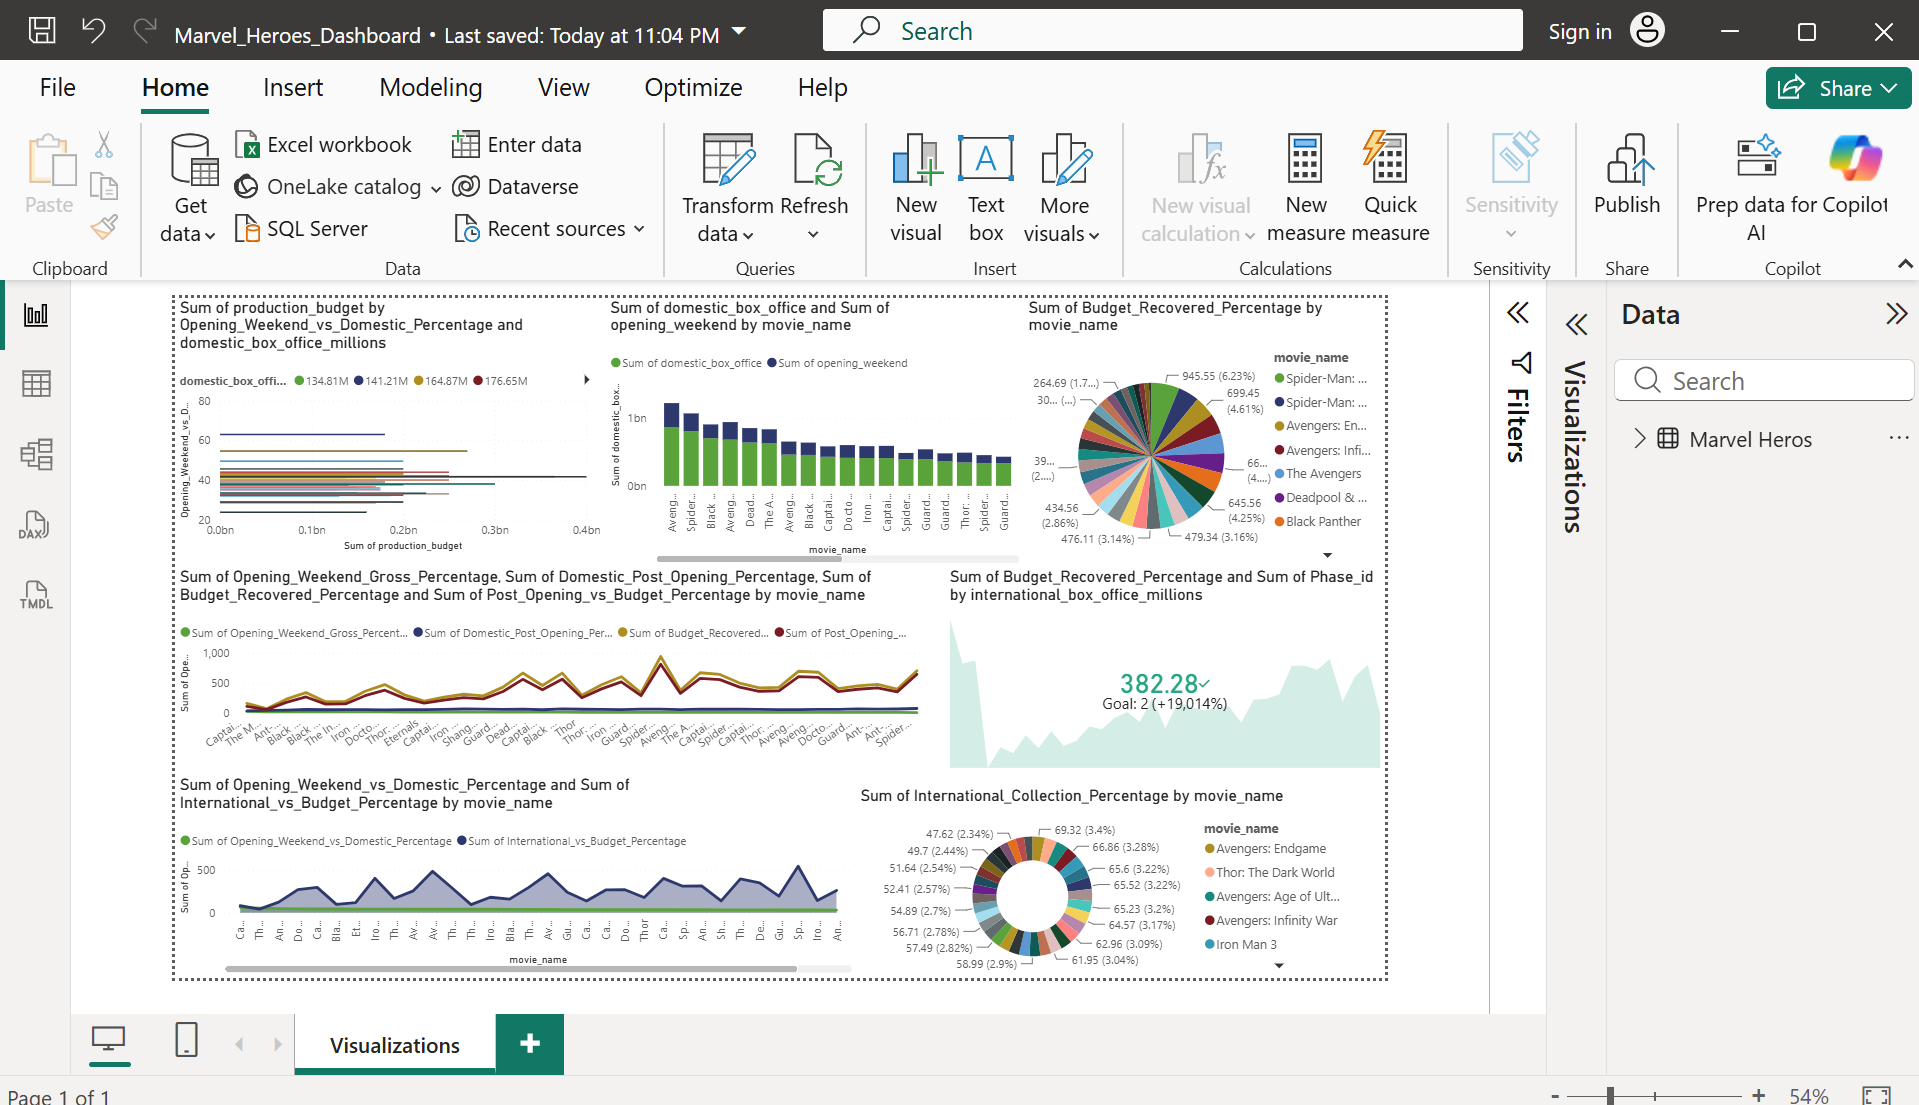

The page's visual inventory and layout, read from the dashboard file:
{"tool":"powerbi","page":{"name":"Visualizations","canvas":[1280,720],"ordinal":0},"visuals":[{"type":"barChart","fields":{"Category":["Marvel Heros.Opening_Weekend_vs_Domestic_Percentage"],"Y":["Sum(Marvel Heros.production_budget)"],"Series":["Marvel Heros.domestic_box_office_millions"]},"box":[0,0,455.2,273.1],"z":0},{"type":"columnChart","fields":{"Y":["Sum(Marvel Heros.domestic_box_office)","Sum(Marvel Heros.opening_weekend)"],"Category":["Marvel Heros.movie_name"]},"box":[455.2,0,442.9,285.4],"z":1000},{"type":"lineChart","fields":{"Y":["Sum(Marvel Heros.Opening_Weekend_Gross_Percentage)","Sum(Marvel Heros.Domestic_Post_Opening_Percentage)","Sum(Marvel Heros.Budget_Recovered_Percentage)","Sum(Marvel Heros.Post_Opening_vs_Budget_Percentage)"],"Category":["Marvel Heros.movie_name"]},"box":[0,285.4,798.3,203.1],"z":2000},{"type":"areaChart","fields":{"Category":["Marvel Heros.movie_name"],"Y":["Sum(Marvel Heros.Opening_Weekend_vs_Domestic_Percentage)","Sum(Marvel Heros.International_vs_Budget_Percentage)"]},"box":[0,505.9,721.3,213.6],"z":3000},{"type":"pieChart","fields":{"Y":["Sum(Marvel Heros.Budget_Recovered_Percentage)"],"Category":["Marvel Heros.movie_name"]},"box":[898.1,0,381.6,285.4],"z":3001},{"type":"donutChart","fields":{"Y":["Sum(Marvel Heros.International_Collection_Percentage)"],"Category":["Marvel Heros.movie_name"]},"box":[721.3,516.4,530.4,203.1],"z":3002},{"type":"kpi","fields":{"Indicator":["Sum(Marvel Heros.Budget_Recovered_Percentage)"],"Goal":["Sum(Marvel Heros.Phase_id)"],"TrendLine":["Marvel Heros.international_box_office_millions"]},"box":[814,285.4,465.7,217.1],"z":3003}]}

Visuals, with their boxes on the page's 1280x720 design canvas (x1, y1, x2, y2). These are canvas units, not pixel positions in the 1919x1105 screenshot, which may show the page scaled, cropped or inside an application window:
barChart - Marvel Heros.Opening_Weekend_vs_Domestic_Percentage x Sum(Marvel Heros.production_budget): (0, 0, 455, 273)
columnChart - Sum(Marvel Heros.domestic_box_office) x Sum(Marvel Heros.opening_weekend): (455, 0, 898, 285)
lineChart - Sum(Marvel Heros.Opening_Weekend_Gross_Percentage) x Sum(Marvel Heros.Domestic_Post_Opening_Percentage): (0, 285, 798, 488)
areaChart - Marvel Heros.movie_name x Sum(Marvel Heros.Opening_Weekend_vs_Domestic_Percentage): (0, 506, 721, 720)
pieChart - Sum(Marvel Heros.Budget_Recovered_Percentage) x Marvel Heros.movie_name: (898, 0, 1280, 285)
donutChart - Sum(Marvel Heros.International_Collection_Percentage) x Marvel Heros.movie_name: (721, 516, 1252, 720)
kpi - Sum(Marvel Heros.Budget_Recovered_Percentage) x Sum(Marvel Heros.Phase_id): (814, 285, 1280, 502)
